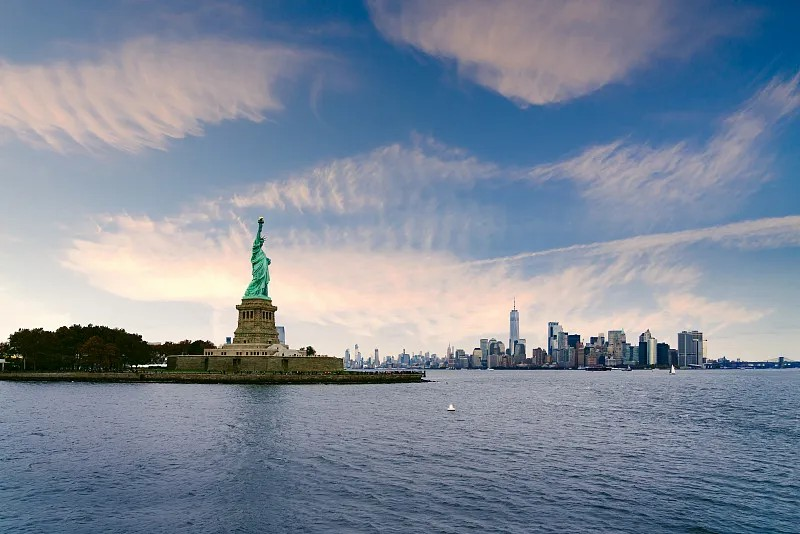SL: (233, 216, 279, 344)
